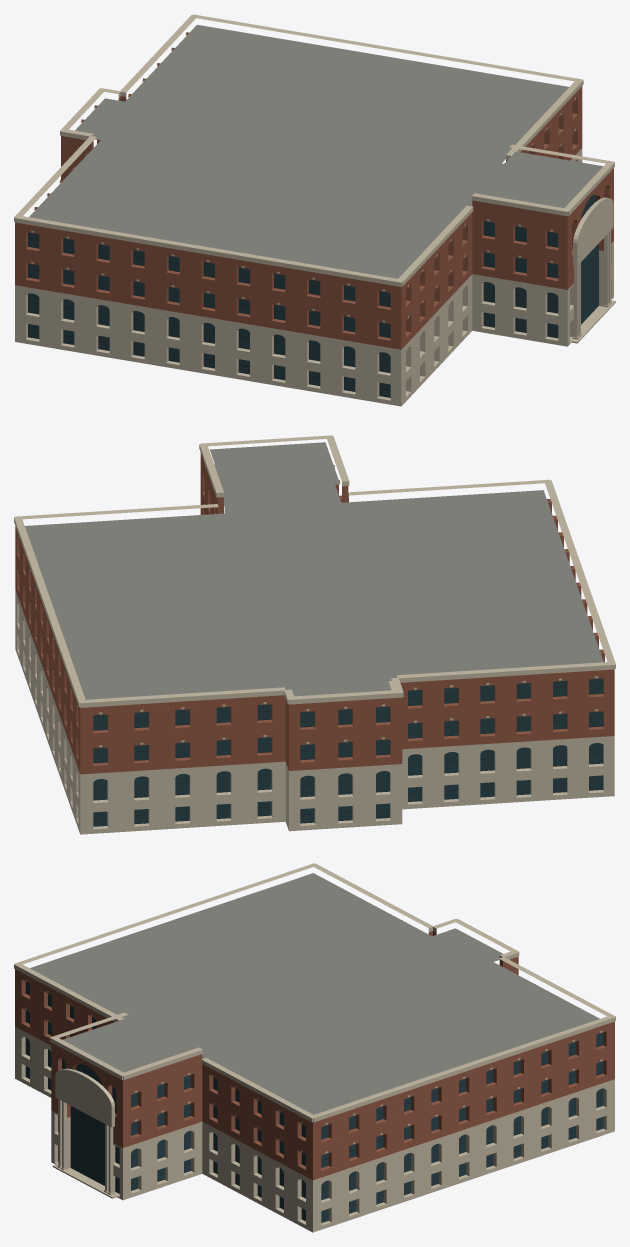
Rendered from north-charleston-city-hall-far.glb.
The picture shows the model from 3 angles, top to bottom: view 1: azimuth 30°, elevation 25°; view 2: azimuth 150°, elevation 25°; view 3: azimuth 270°, elevation 25°; orthographic projection. The views are drawn at different scales.
Visible parts, largest first — view 1: north-charleston-city-hall-0-roof, north-charleston-city-hall-0-stone, north-charleston-city-hall-0-brick, north-charleston-city-hall-0-glass, north-charleston-city-hall-0-frame; view 2: north-charleston-city-hall-0-roof, north-charleston-city-hall-0-stone, north-charleston-city-hall-0-brick, north-charleston-city-hall-0-glass, north-charleston-city-hall-0-frame; view 3: north-charleston-city-hall-0-roof, north-charleston-city-hall-0-stone, north-charleston-city-hall-0-brick, north-charleston-city-hall-0-glass, north-charleston-city-hall-0-frame.
Boxes of the visible parts, box(x1,y1,x2,y2) form: north-charleston-city-hall-0-roof: box(29, 24, 602, 278); north-charleston-city-hall-0-stone: box(14, 14, 615, 406); north-charleston-city-hall-0-brick: box(15, 32, 613, 349); north-charleston-city-hall-0-glass: box(28, 195, 598, 397); north-charleston-city-hall-0-frame: box(28, 151, 598, 397); north-charleston-city-hall-0-roof: box(25, 442, 603, 699); north-charleston-city-hall-0-stone: box(14, 435, 615, 834); north-charleston-city-hall-0-brick: box(15, 453, 614, 774); north-charleston-city-hall-0-glass: box(93, 678, 602, 826); north-charleston-city-hall-0-frame: box(93, 678, 603, 826); north-charleston-city-hall-0-roof: box(30, 873, 599, 1114); north-charleston-city-hall-0-stone: box(14, 863, 615, 1232); north-charleston-city-hall-0-brick: box(15, 888, 614, 1180); north-charleston-city-hall-0-glass: box(26, 982, 602, 1222); north-charleston-city-hall-0-frame: box(25, 982, 603, 1222).
Bounding box in the file's own units: 98.48 × 22.4 × 98.16.
